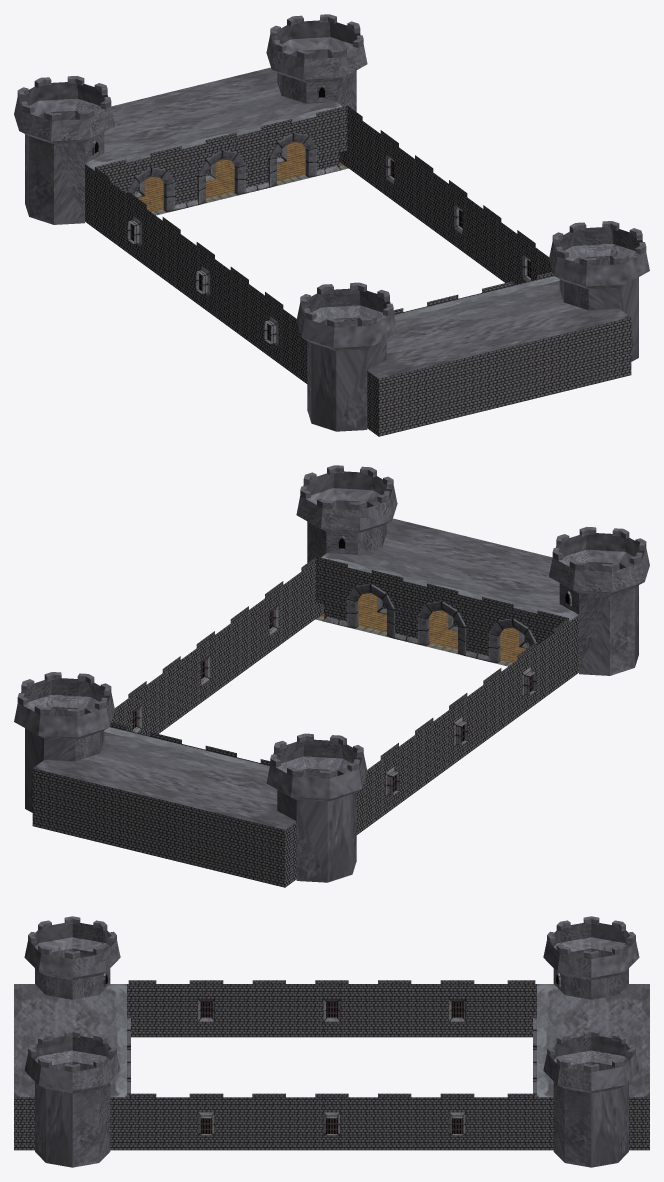
File: mod_arena.fbx
3 renders of one model, top to bottom at view 1: azimuth 30°, elevation 25°; view 2: azimuth 150°, elevation 25°; view 3: azimuth 270°, elevation 25°, orthographic. The views are drawn at different scales.
Visible parts, largest first — view 1: Mesh 2, Mesh 1; view 2: Mesh 2, Mesh 1; view 3: Mesh 2, Mesh 1, Mesh 3.
Part boxes in pixels (x1,y1,x2,y2): Mesh 2: [14, 14, 649, 431]; Mesh 1: [85, 105, 631, 436]; Mesh 2: [14, 465, 649, 882]; Mesh 1: [32, 556, 578, 887]; Mesh 2: [14, 916, 649, 1167]; Mesh 1: [14, 980, 649, 1150]; Mesh 3: [200, 1001, 463, 1134].
Bounding box in the file's own units: 4350 × 1365 × 7600.
Materials: 3 (3 with a texture image).
